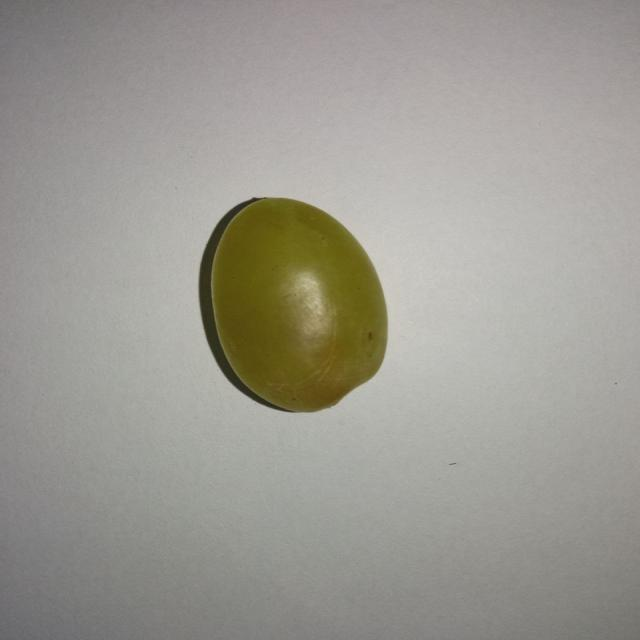fresh_grape: (213, 202, 382, 406)
